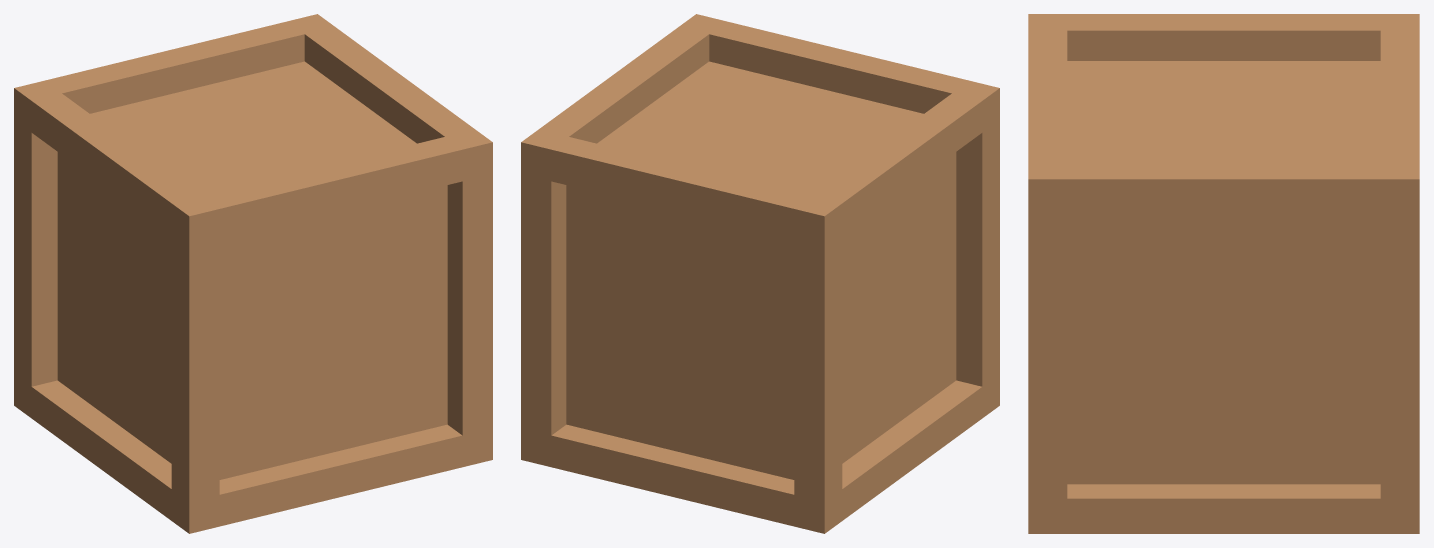
Rendered from wood_box.fbx.
3 views of the same model, side by side, from view 1: azimuth 30°, elevation 25°; view 2: azimuth 150°, elevation 25°; view 3: azimuth 270°, elevation 25° (orthographic). The views are drawn at different scales.
Parts seen in each view (by area): view 1: Cube; view 2: Cube; view 3: Cube.
Boxes of the visible parts, bbox=[...] form: Cube: bbox=[14, 14, 492, 533]; Cube: bbox=[521, 14, 999, 533]; Cube: bbox=[1028, 14, 1419, 533].
Bounding box in the file's own units: 100 × 100 × 100.
